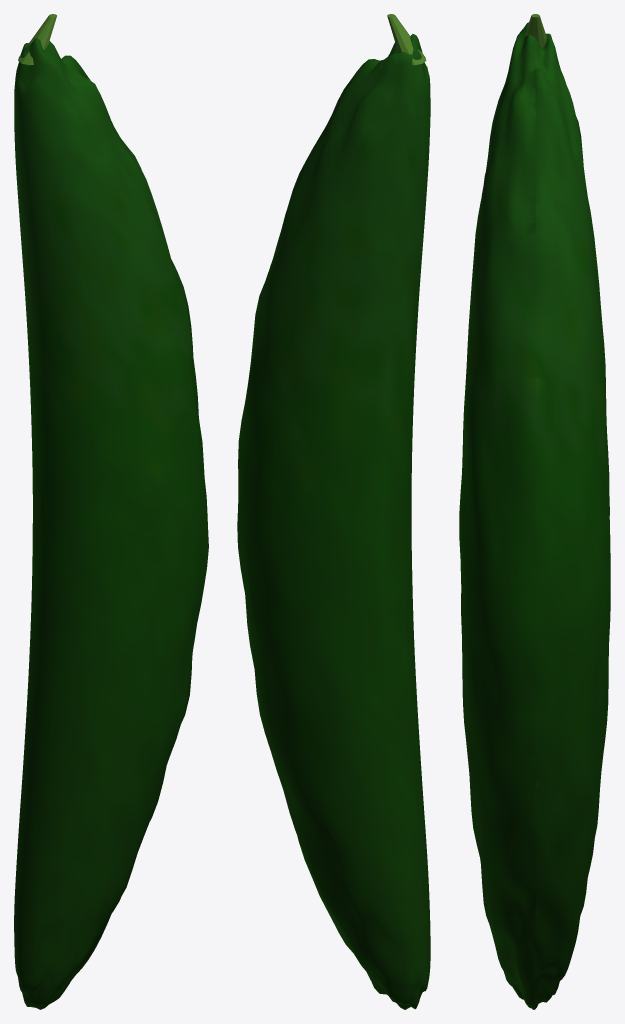
The model's file is haricot-vert.glb.
3 renders of one model, left to right at view 1: azimuth 30°, elevation 25°; view 2: azimuth 150°, elevation 25°; view 3: azimuth 270°, elevation 25°, orthographic.
Parts seen in each view (by area): view 1: entier_peau, moitie_B_peau, moitie_A_peau, entier_extra0; view 2: entier_peau, moitie_A_peau, moitie_B_peau, entier_extra0; view 3: entier_peau, moitie_A_peau, moitie_B_peau, entier_extra0.
Boxes of the visible parts, x1=… form: entier_peau: x1=14, y1=38, x2=208, y2=1009; moitie_B_peau: x1=18, y1=39, x2=207, y2=1009; moitie_A_peau: x1=14, y1=43, x2=87, y2=975; entier_extra0: x1=18, y1=14, x2=56, y2=65; entier_peau: x1=237, y1=34, x2=430, y2=1009; moitie_A_peau: x1=237, y1=44, x2=426, y2=1007; moitie_B_peau: x1=392, y1=35, x2=430, y2=1008; entier_extra0: x1=387, y1=14, x2=426, y2=65; entier_peau: x1=459, y1=22, x2=610, y2=1009; moitie_A_peau: x1=535, y1=34, x2=610, y2=1006; moitie_B_peau: x1=461, y1=29, x2=535, y2=1009; entier_extra0: x1=525, y1=14, x2=546, y2=47.
Size of the model in its own units: 0.3953 by 2.06 by 0.2828.
